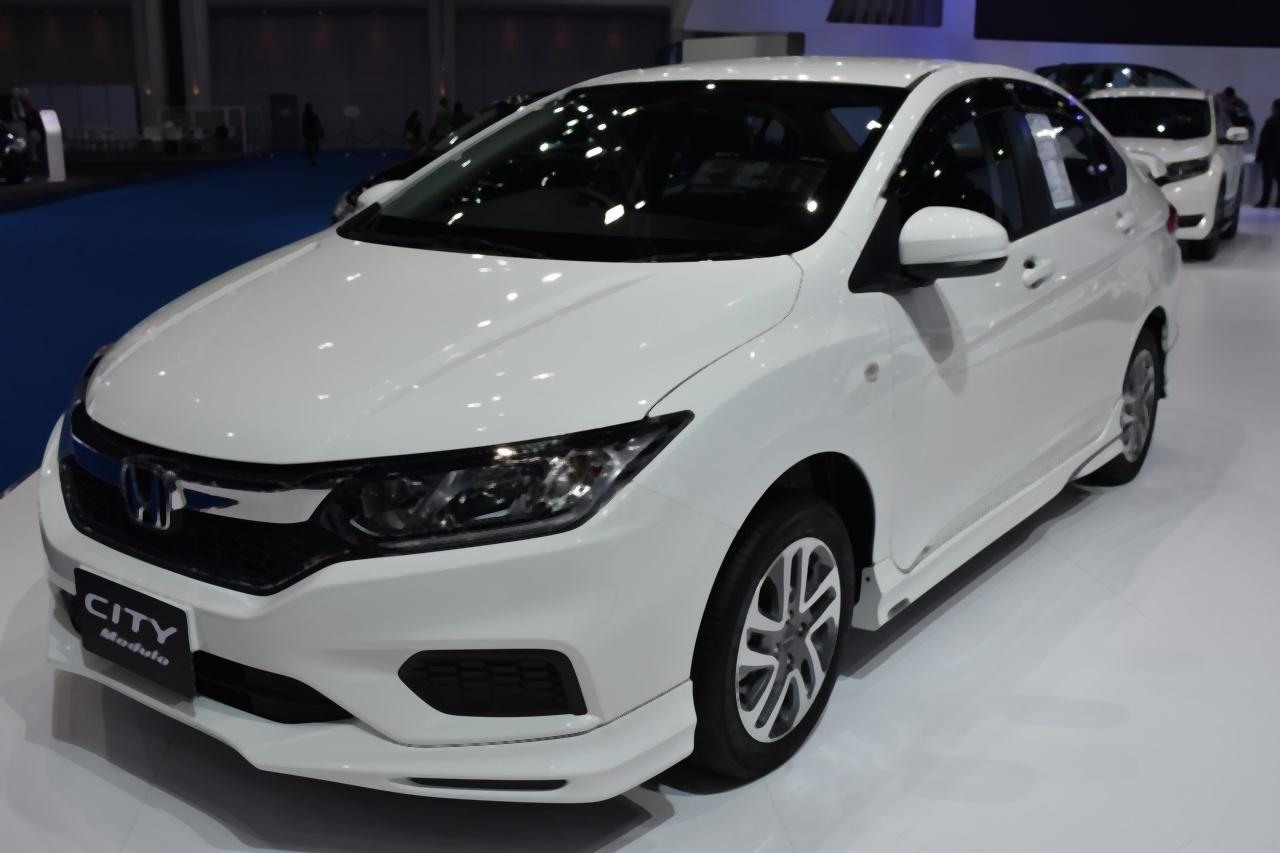Car hood: (66, 226, 822, 456)
Fender - -F-L-: (627, 194, 919, 571)
Front bumper: (0, 395, 744, 806)
Headlight - -L-: (319, 409, 693, 556)
Passenger-s door - -F-L-: (843, 50, 1076, 674)
Passenger-s door - -R-L-: (977, 59, 1153, 546)
Side bumper - -L-: (851, 393, 1149, 715)
Side mirror - -L-: (870, 206, 1020, 287)
